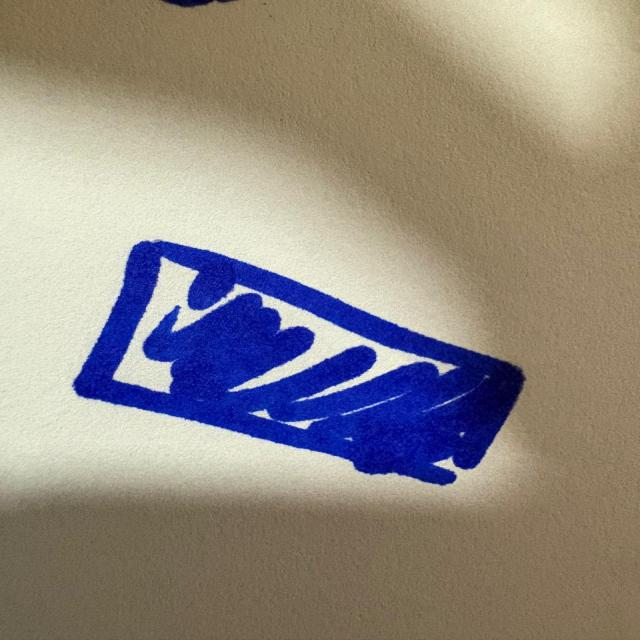Rectangle: (51, 227, 533, 495)
